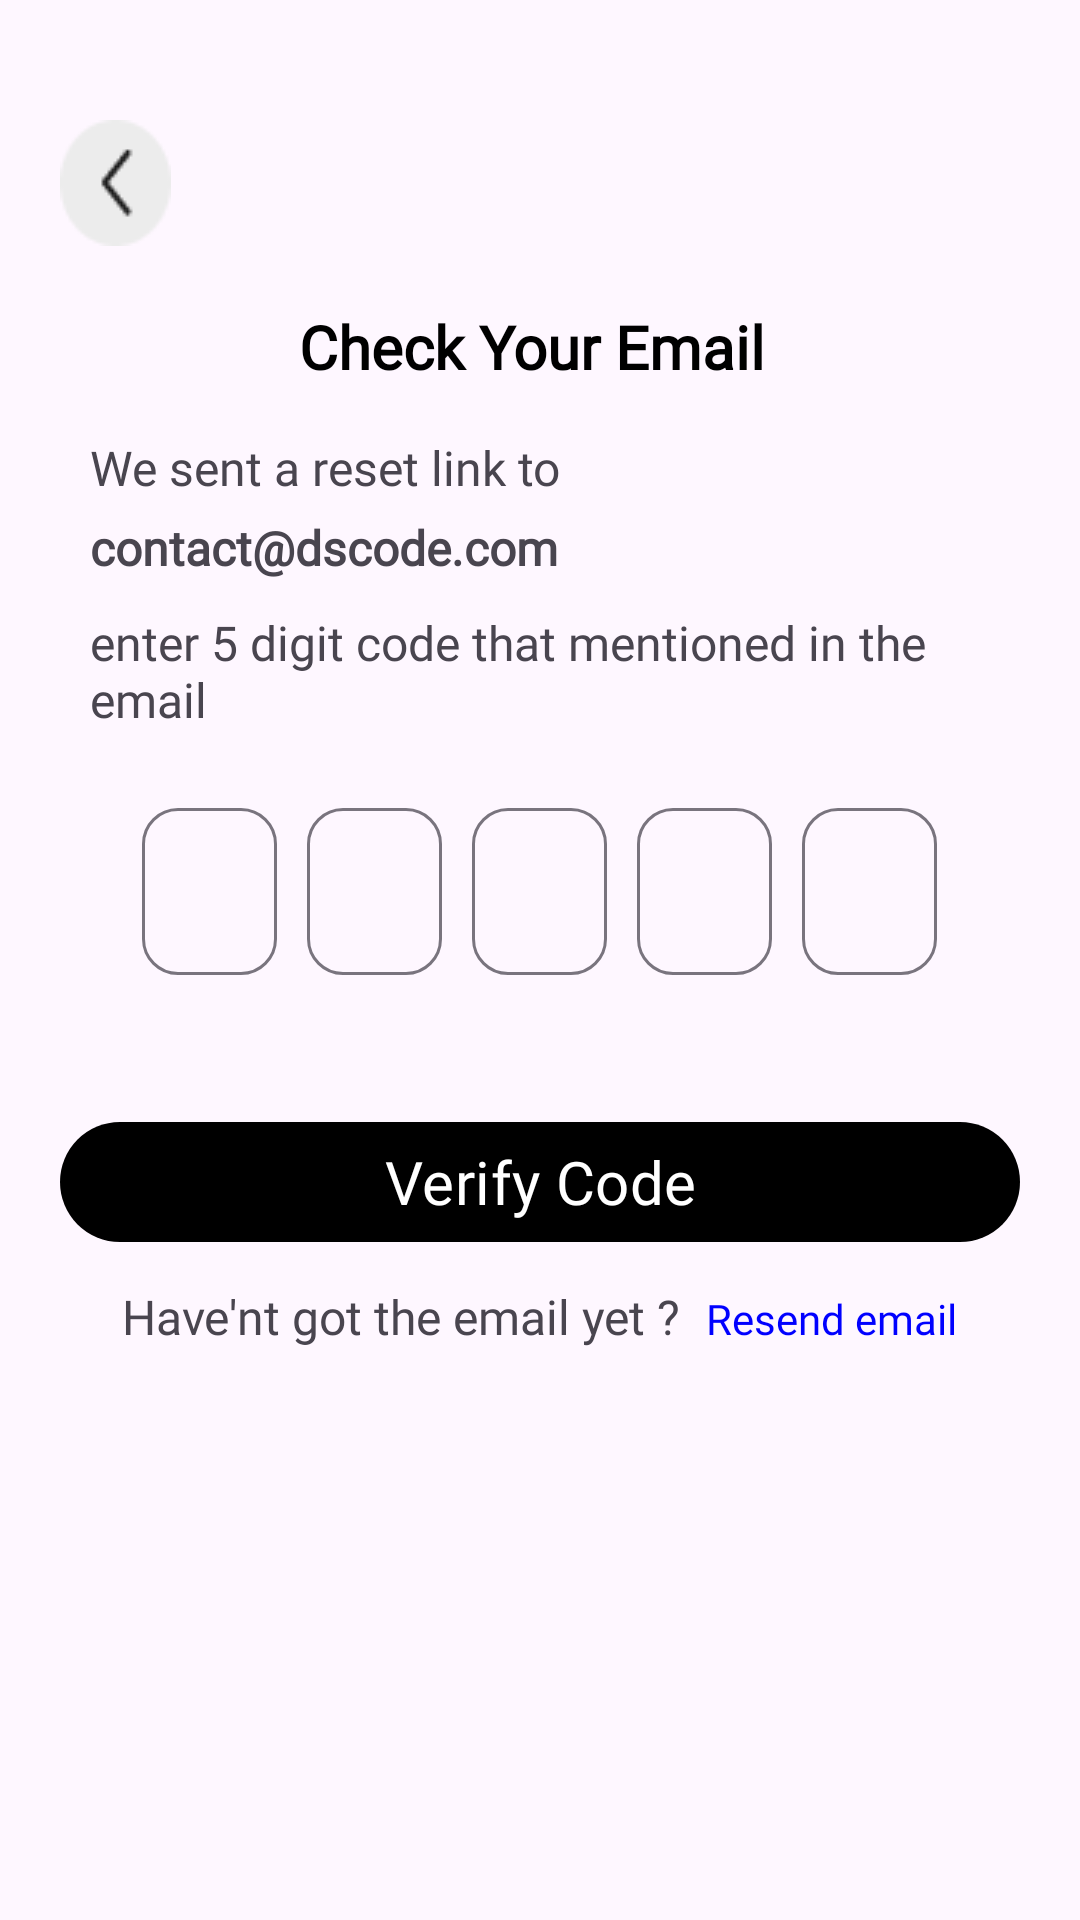

Named icons in this screenshot (1080px×1920px) and their centers, [x,y]:
back: [115,183]
